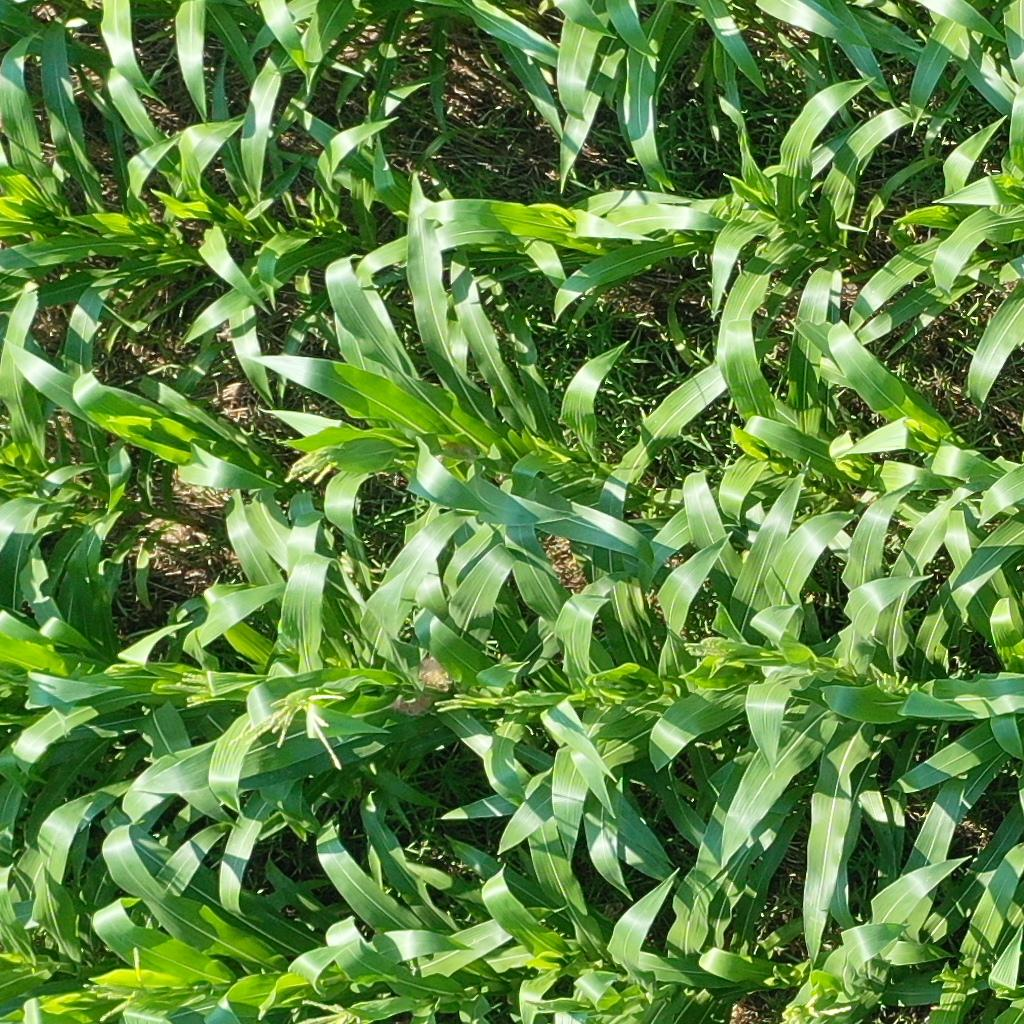Tassel: (229, 690, 348, 766), (76, 944, 145, 1024), (283, 441, 339, 489), (156, 669, 220, 711), (778, 990, 857, 1024), (862, 659, 914, 697), (296, 995, 363, 1024), (683, 633, 735, 660), (433, 690, 480, 713), (103, 661, 141, 676), (590, 678, 616, 689)
